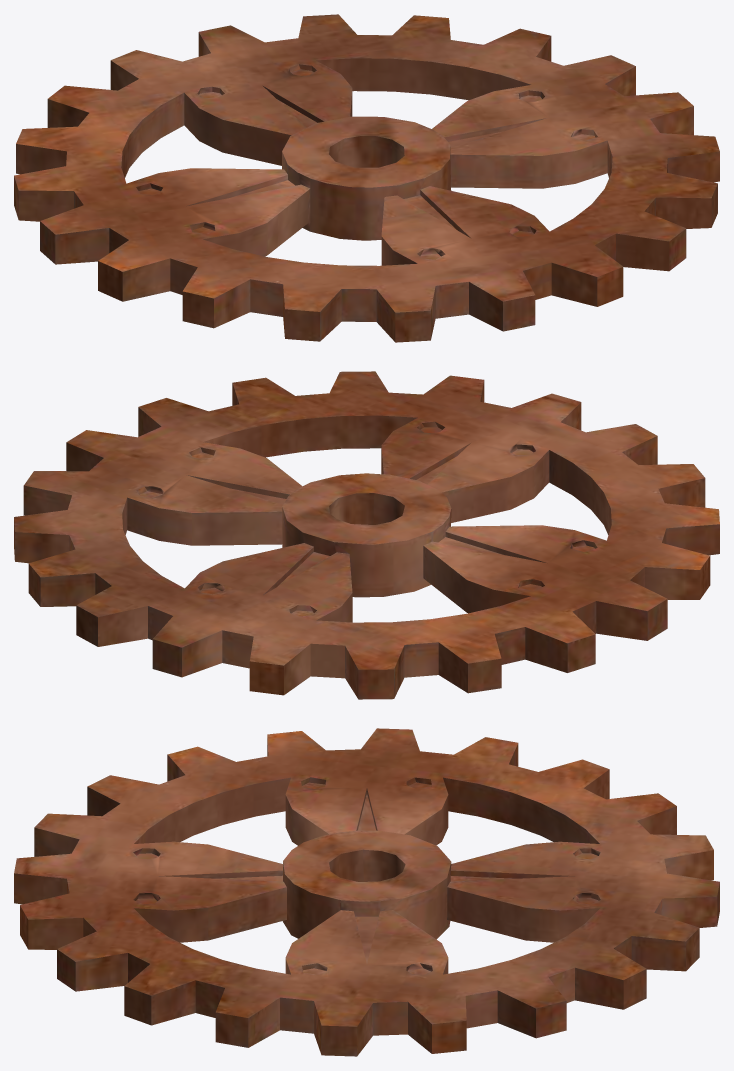
Rendered from steampunk_gear_16.glb.
3 views of the same model, one above another, from view 1: azimuth 30°, elevation 25°; view 2: azimuth 150°, elevation 25°; view 3: azimuth 270°, elevation 25° (orthographic).
Parts seen in each view (by area): view 1: steampunk_gear_16; view 2: steampunk_gear_16; view 3: steampunk_gear_16.
Part boxes in pixels (x1=…): steampunk_gear_16: x1=14, y1=14, x2=719, y2=342; steampunk_gear_16: x1=14, y1=371, x2=719, y2=699; steampunk_gear_16: x1=14, y1=728, x2=719, y2=1056.
Size of what is drawn, in the model's own units: 0.1644 by 0.0136 by 0.1644.
Materials: 1 (1 with a texture image).
